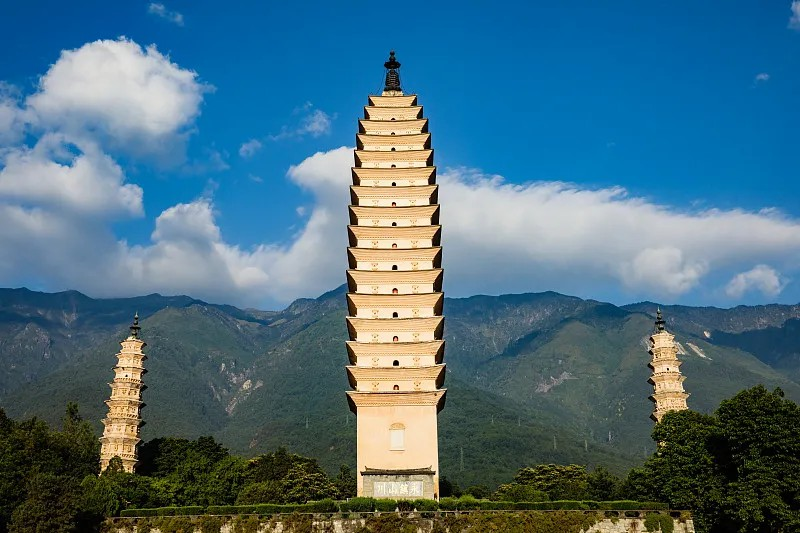ThreePagoda: (344, 50, 448, 501)
